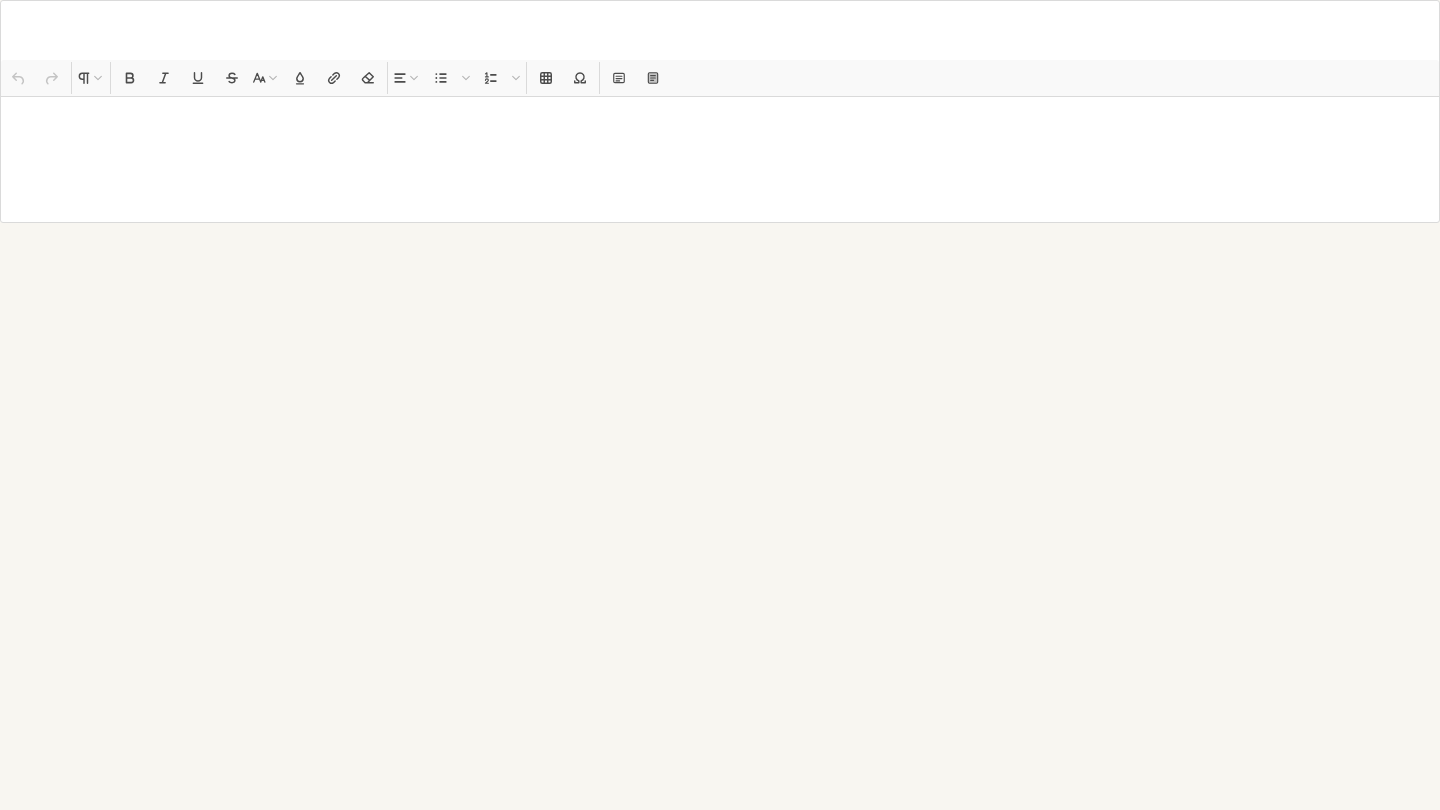
link button and form › empty address: an error, no change; Esc closes without a change
The image size is (1440, 810).
Click the button named "Havola".
click(334, 78)  # box top-left (317, 61), bottom-right (351, 95)
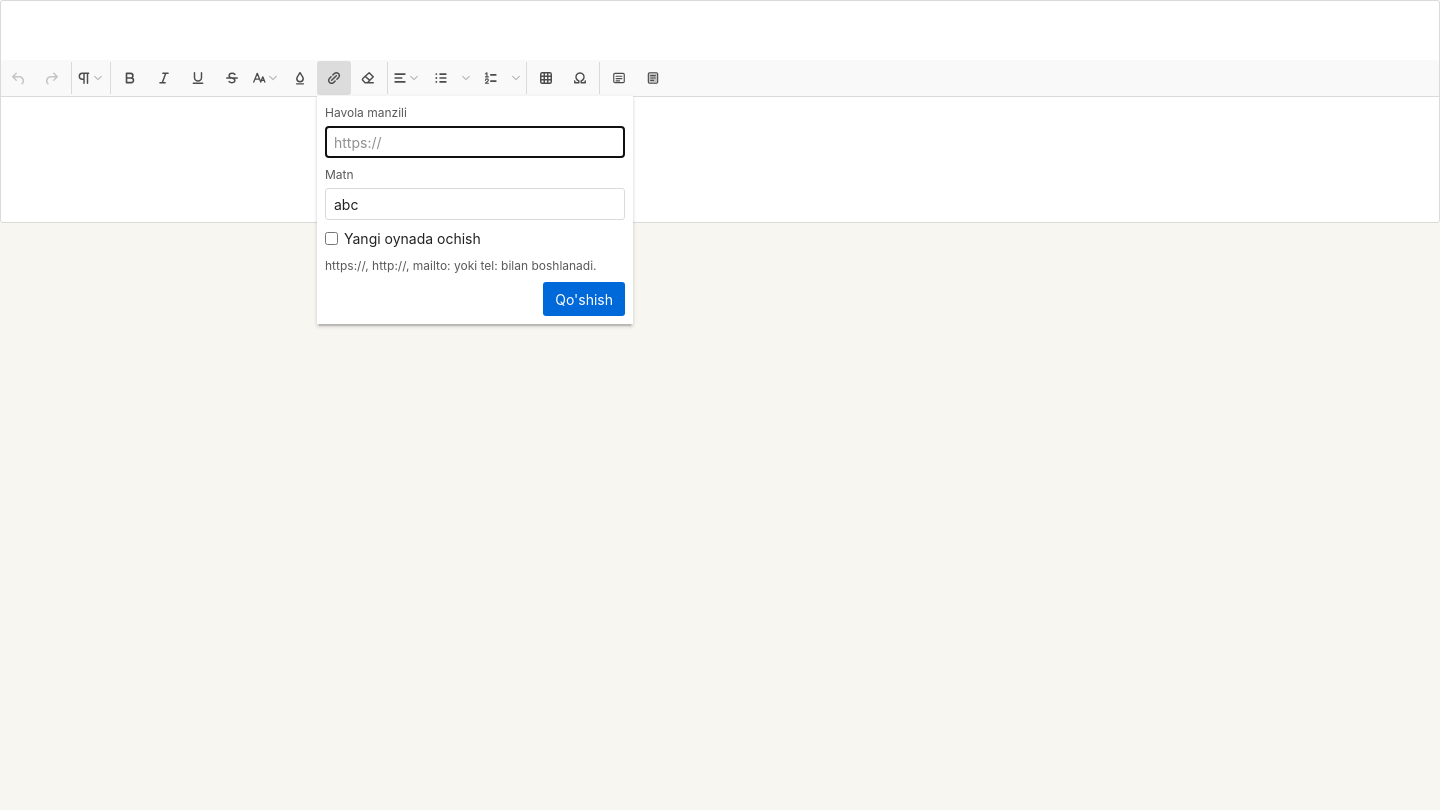
Submit the form, box top-left (325, 104), bottom-right (625, 316)
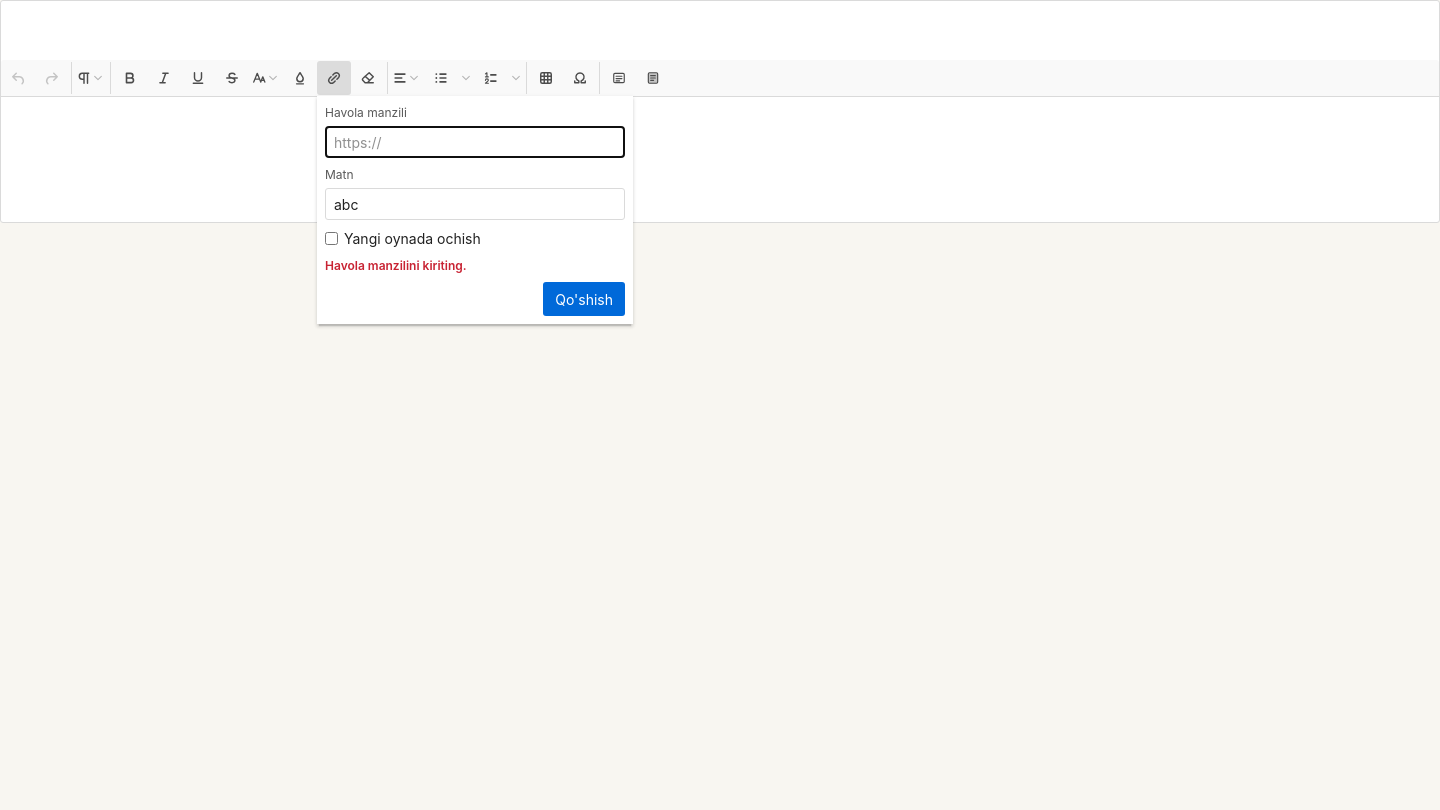
Now the text "Havola manzilini kiriting." is shown, box top-left (325, 258), bottom-right (467, 273)
Type "https://x.uz" into the field labelled "Havola manzili".
click(475, 142); type("https://x.uz")  # box top-left (325, 126), bottom-right (625, 158)
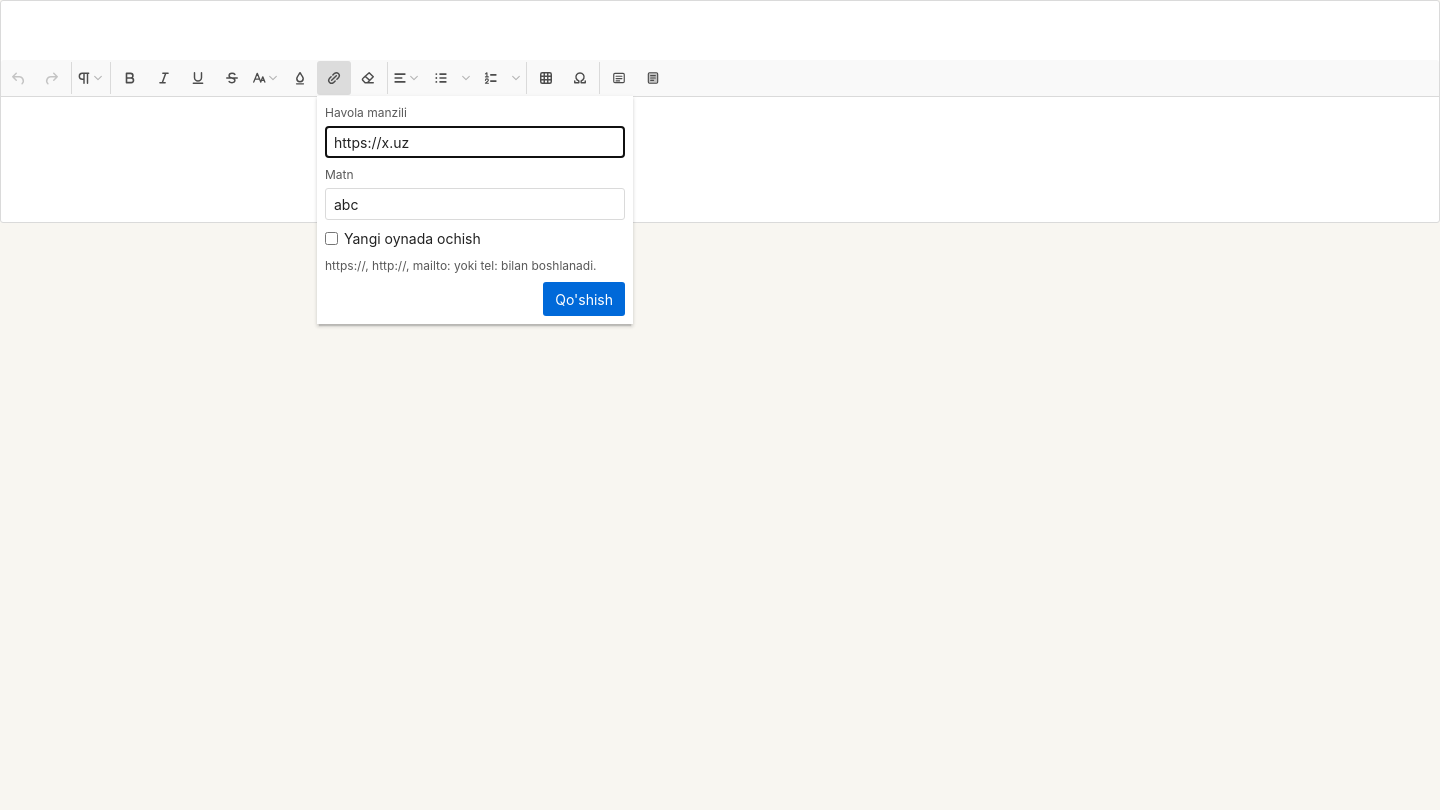
Press Escape in the field labelled "Havola manzili", box top-left (325, 126), bottom-right (625, 158)
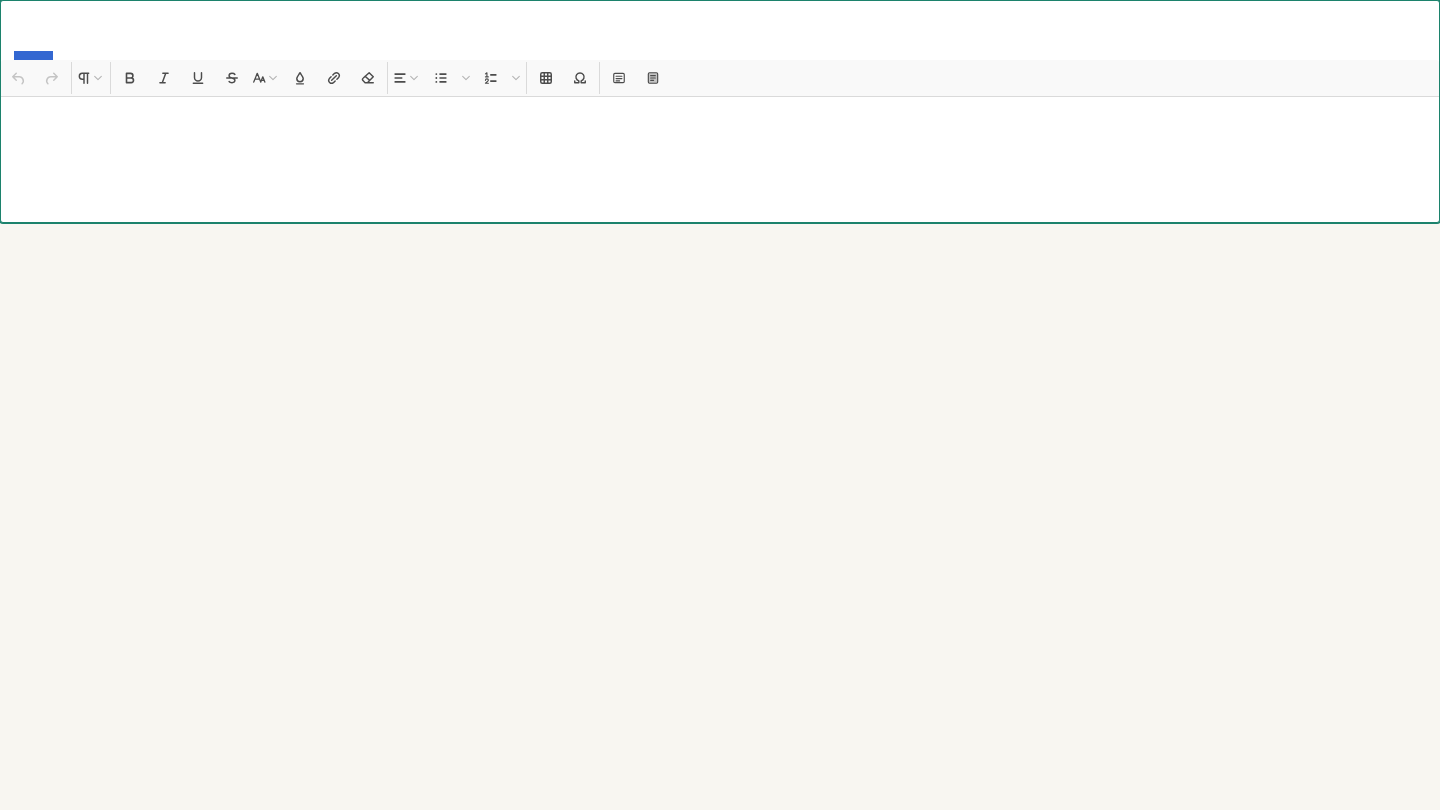
Now the form with class "rich-editor__form" is gone
